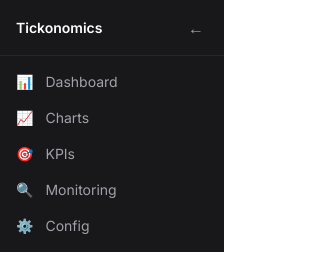
Test: Sidebar › expands after collapse
Click the button named "Collapse sidebar": (196, 28) [184, 12, 208, 44]
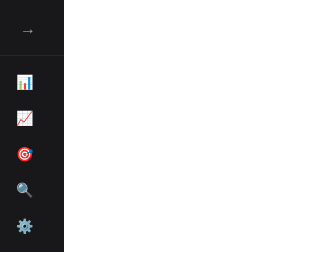
Click the button named "Expand sidebar": (28, 28) [16, 12, 40, 44]
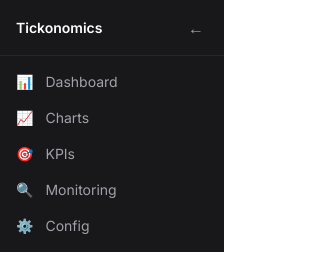
Check: the text "Tickonomics" is shown, box [16, 18, 102, 38]
Check: the button named "Collapse sidebar" is shown, box [184, 12, 208, 44]
